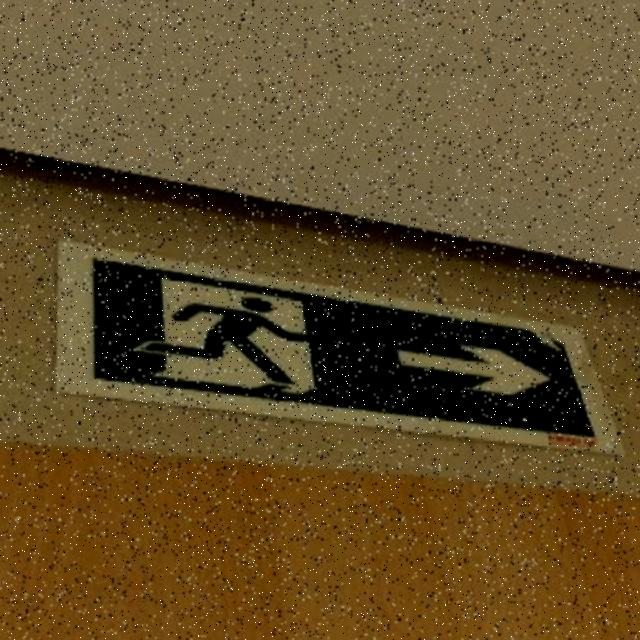emergency_exit: (52, 237, 616, 455)
